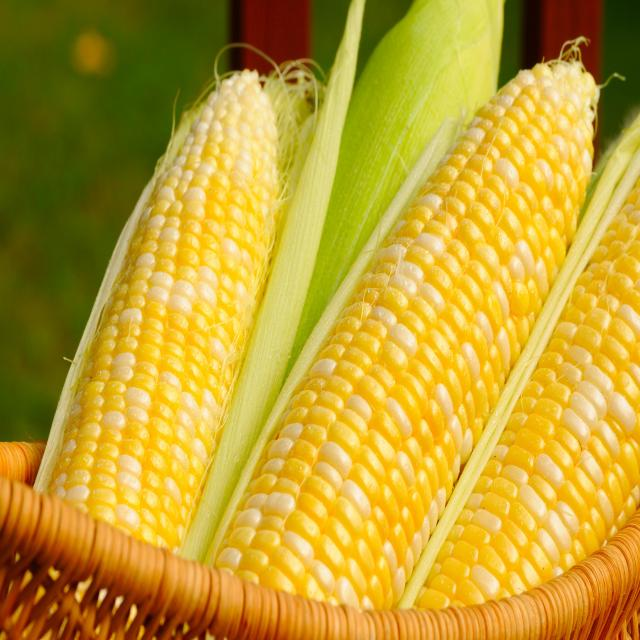corn: (216, 52, 618, 599), (41, 55, 293, 549), (399, 132, 640, 616)
